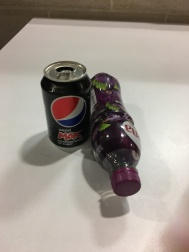bottle_purple: (89, 70, 146, 207)
can_black: (37, 57, 93, 150)
